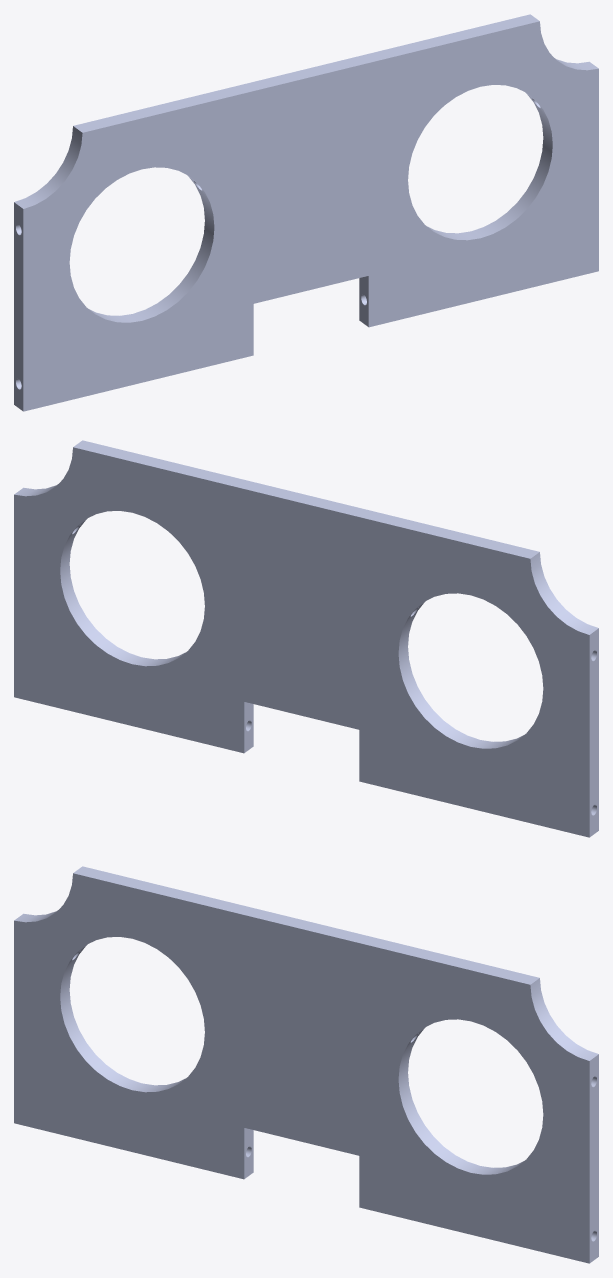
Rendered from antenna_cover_1.dae.
The picture shows the model from 3 angles, top to bottom: view 1: azimuth 30°, elevation 25°; view 2: azimuth 150°, elevation 25°; view 3: azimuth 330°, elevation 25°; orthographic projection.
Visible parts, largest first — view 1: node0; view 2: node0; view 3: node0.
Boxes of the visible parts, <box> form: node0: <box>14,14,598,411</box>; node0: <box>14,440,598,837</box>; node0: <box>14,866,598,1263</box>.
Size of the model in its own units: 0.1749 by 0.0768 by 0.005.
